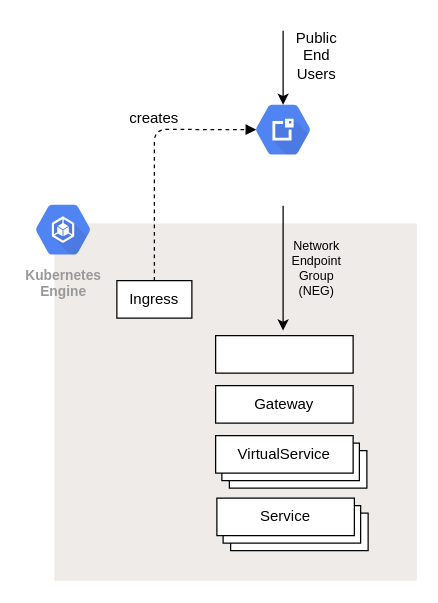
Some shapes in this 438 by 603 pixel diagram are drawn without their labels. The shapes that lost their labels are listed below. From the top down, each one's centre as x and y in pixels, then its label:
At (282,129): "GCP HTTPS LoadBalancer".
At (283,353): "Ingress Gateway".
